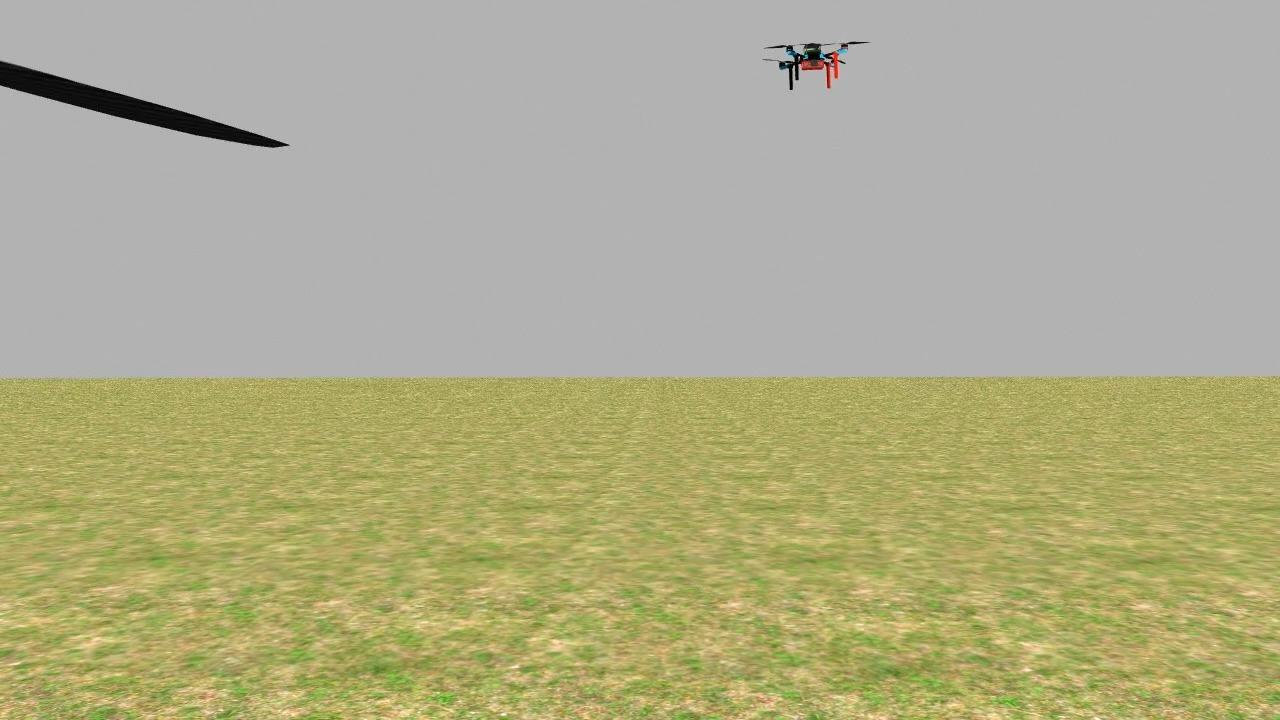UAV: (760, 29, 867, 98)
